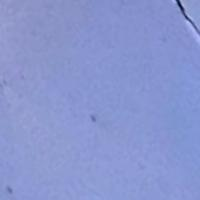crack: (158, 0, 199, 40)
